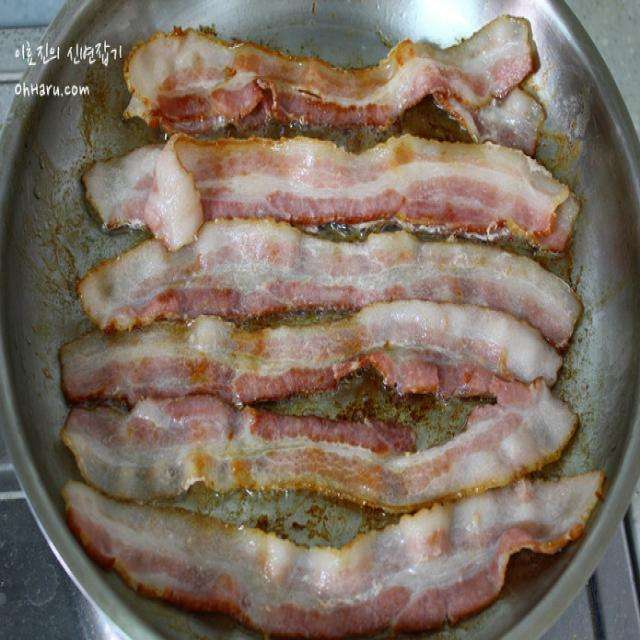Bacon Slice: (60, 17, 603, 638)
